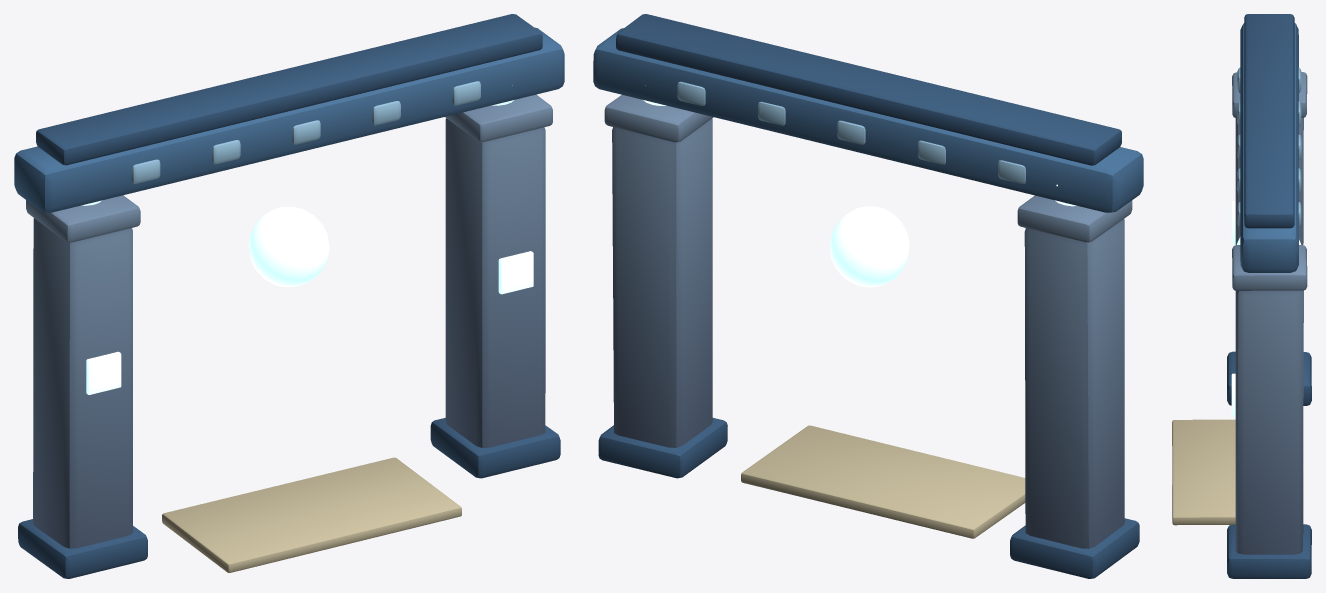
3 renders of one model, left to right at view 1: azimuth 30°, elevation 25°; view 2: azimuth 150°, elevation 25°; view 3: azimuth 270°, elevation 25°, orthographic. The views are drawn at different scales.
Visible parts, largest first — view 1: gate_c13207f7; view 2: gate_c13207f7; view 3: gate_c13207f7.
Boxes of the visible parts, bbox=[...] form: gate_c13207f7: bbox=[14, 14, 564, 578]; gate_c13207f7: bbox=[593, 14, 1143, 578]; gate_c13207f7: bbox=[1172, 14, 1311, 578].
Bounding box in the file's own units: 5.37 × 4.15 × 1.44.
